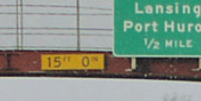0: (79, 53, 91, 70)
1: (45, 55, 52, 69)
5: (51, 55, 62, 69)
overheadsign: (40, 53, 104, 71)
